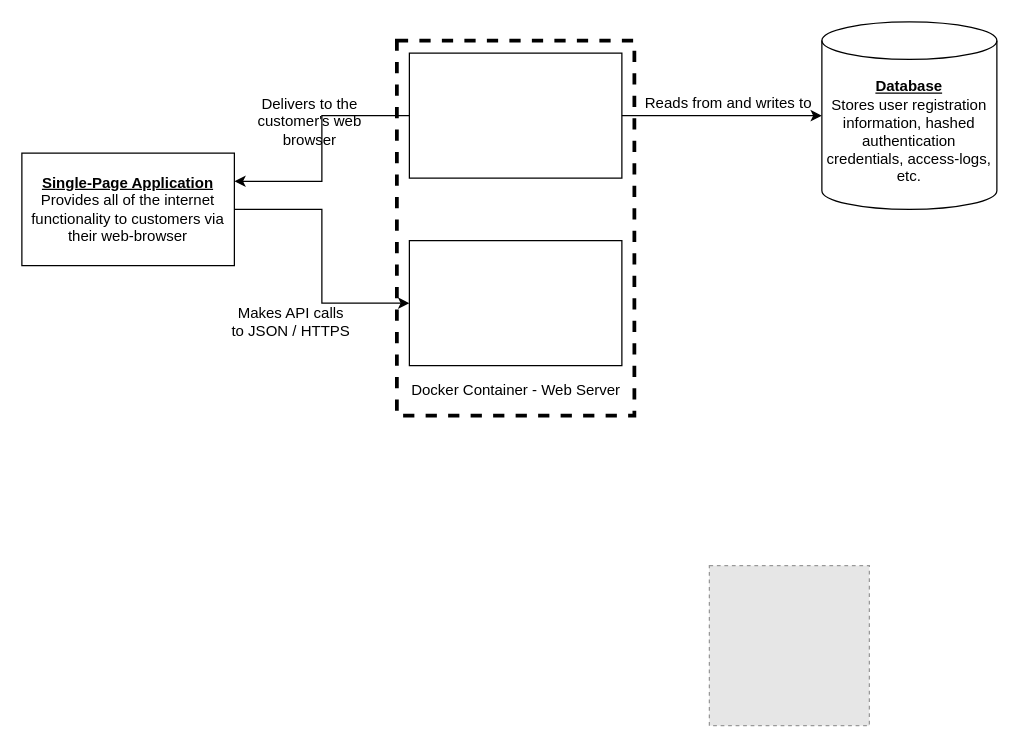
Image size: 1019x748. Some labels were removed from this diagram. Grey dashed boxes stand in for pictures. Here are the shapes that lost their labels. From the top down, the centre of each, then its label:
At [515,115]: "Web Application Delivers the static content and the single-page application".
At [515,302]: "API Application Provides application functionality via a JSON / HTTPS API.".
